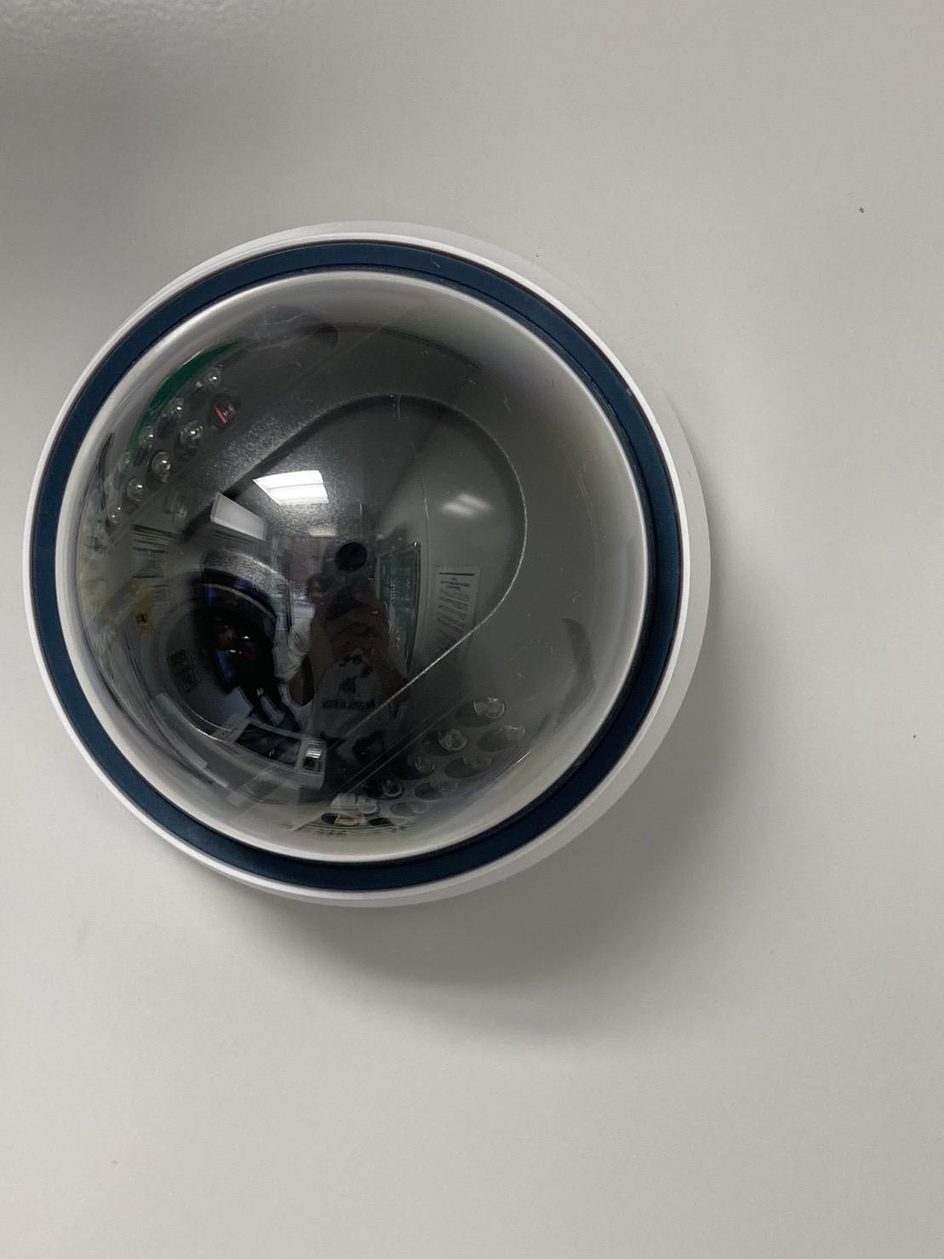maru: (7, 211, 709, 919)
